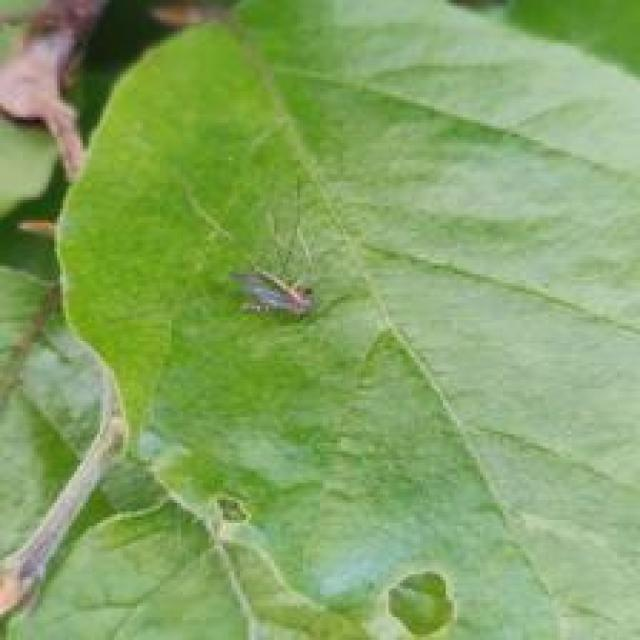Culex: (229, 264, 314, 319)
